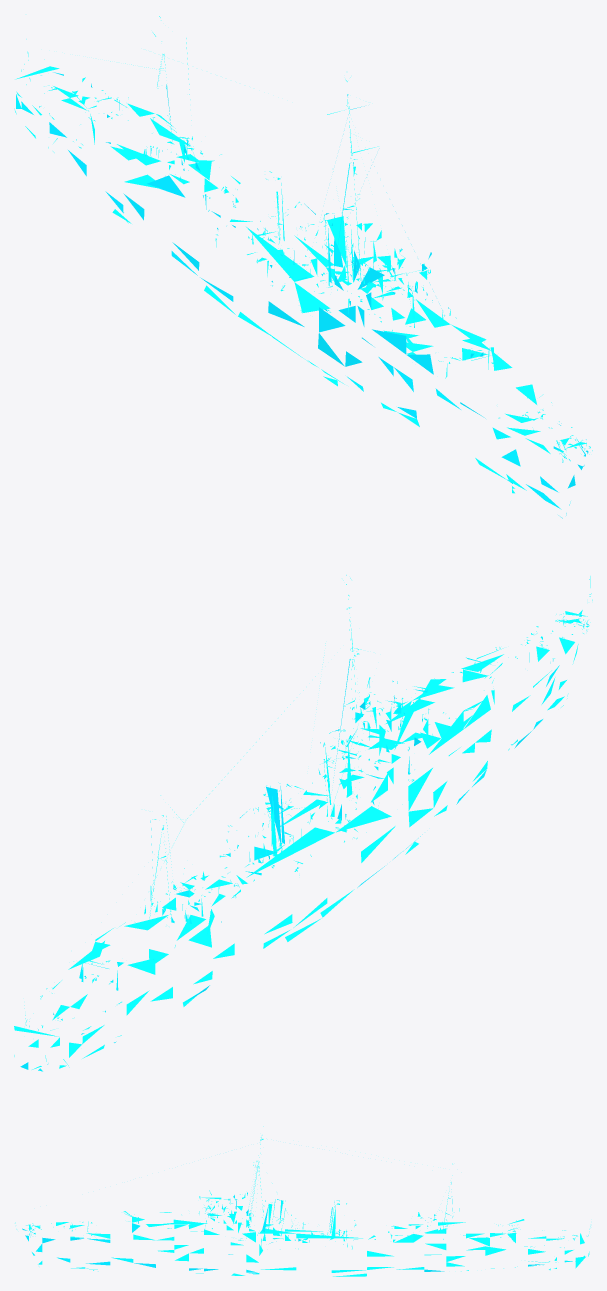
Rendered from Eskimo.glb.
3 views of the same model, one above another, from view 1: azimuth 30°, elevation 25°; view 2: azimuth 150°, elevation 25°; view 3: azimuth 270°, elevation 25° (orthographic). The views are drawn at different scales.
Bounding box in the file's own units: 0.7382 × 2.25 × 7.71.
